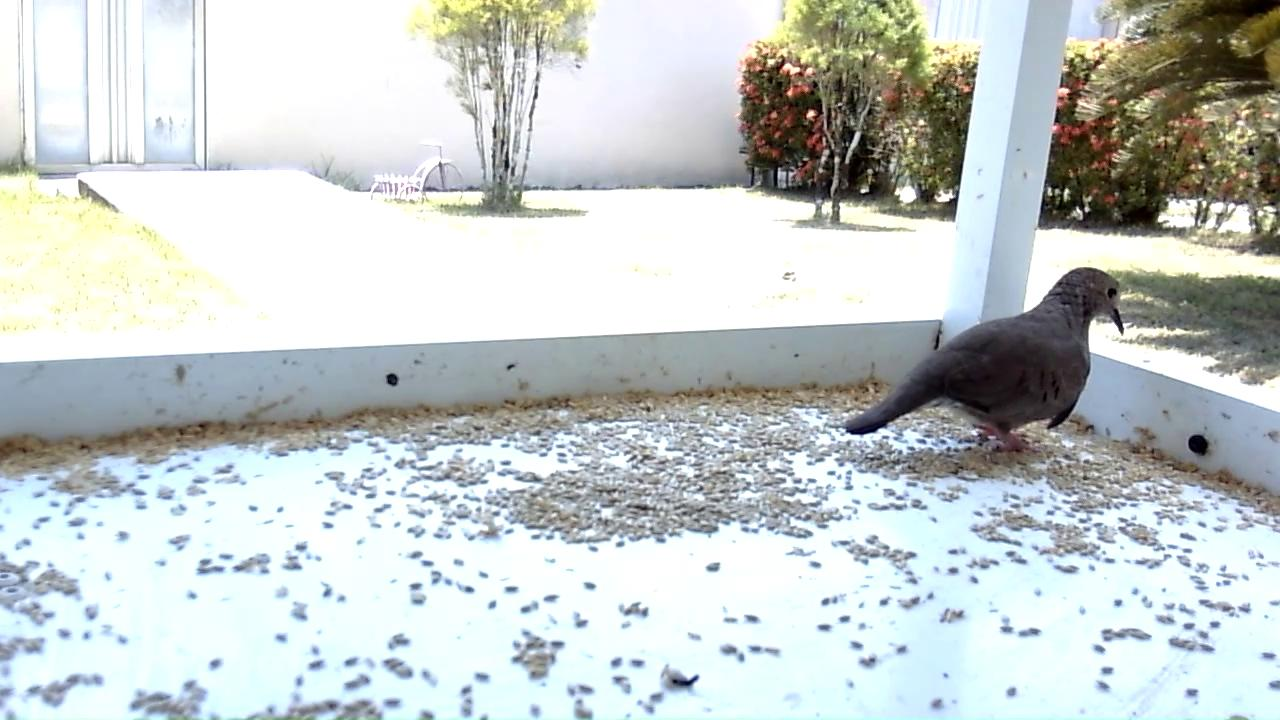rolinha: (843, 265, 1131, 457)
